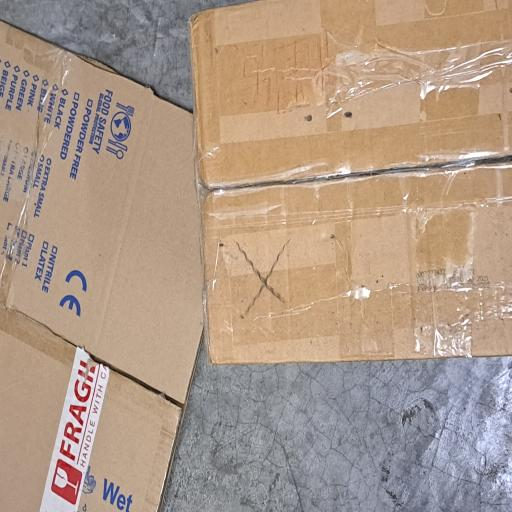cardboard: (0, 0, 384, 276), (108, 251, 384, 512)
